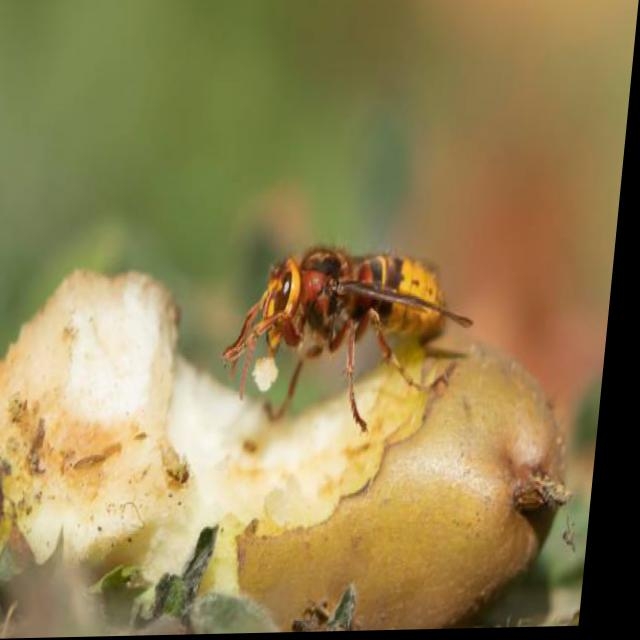Vespa Crabro: (222, 229, 501, 453)
